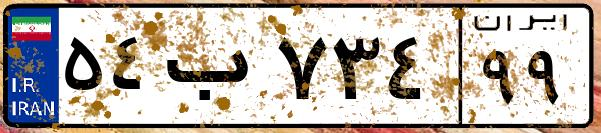3: (330, 28, 385, 110)
4: (385, 28, 445, 110), (110, 28, 158, 98)
5: (57, 26, 110, 100)
7: (270, 28, 330, 110)
9: (475, 38, 525, 113), (525, 38, 570, 115)
ب: (158, 20, 270, 120)
